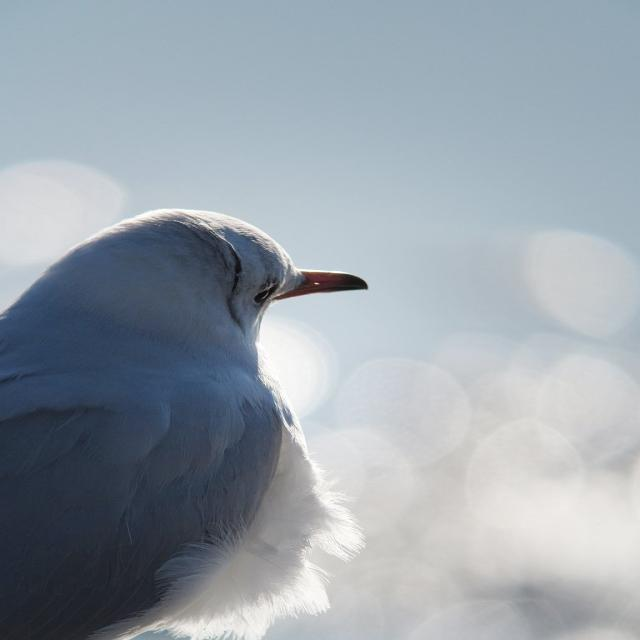bird: (0, 184, 371, 640)
